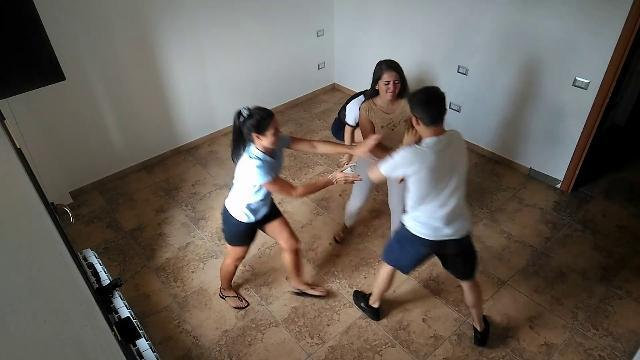violence: (217, 86, 495, 346), (326, 57, 492, 348)
